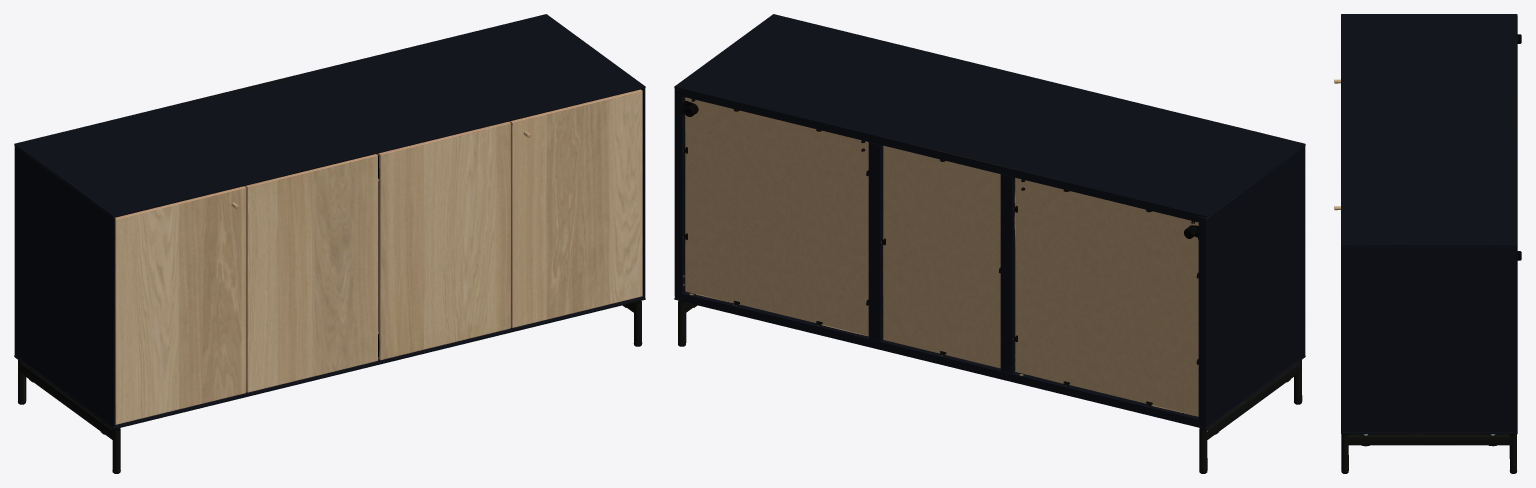
The model's file is boastad_kredens_30507012.glb.
3 views of the same model, side by side, from view 1: azimuth 30°, elevation 25°; view 2: azimuth 150°, elevation 25°; view 3: azimuth 270°, elevation 25° (orthographic). The views are drawn at different scales.
Parts seen in each view (by area): view 1: boastad_kredens_30507012; view 2: boastad_kredens_30507012; view 3: boastad_kredens_30507012.
Boxes of the visible parts, box(x1,y1,x2,y2) form: boastad_kredens_30507012: box(14, 14, 645, 473); boastad_kredens_30507012: box(674, 14, 1305, 473); boastad_kredens_30507012: box(1334, 14, 1521, 473).
Bounding box in the file's own units: 1.61 × 0.751 × 0.5529.
2 materials, 2 textured.
